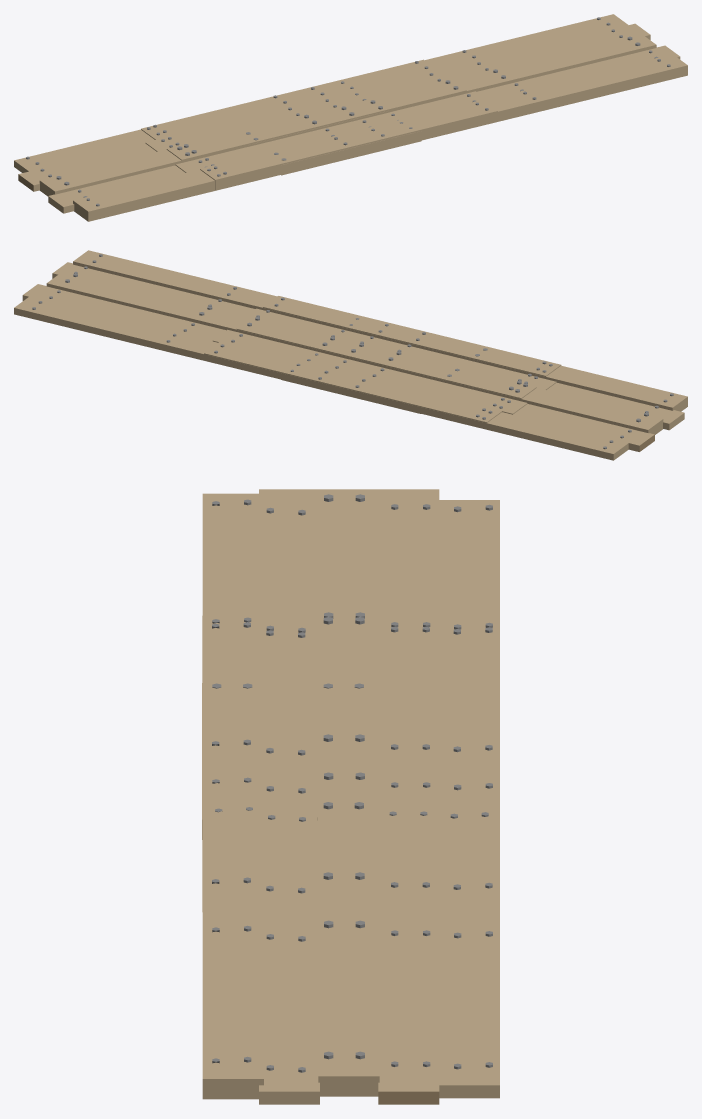
The model's file is roof planks 1.fbx.
3 renders of one model, top to bottom at view 1: azimuth 30°, elevation 25°; view 2: azimuth 150°, elevation 25°; view 3: azimuth 270°, elevation 25°, orthographic. The views are drawn at different scales.
Visible parts, largest first — view 1: Roof_3, roof_2, Roof_1; view 2: Roof_3, roof_2; view 3: Roof_3, roof_2.
Boxes of the visible parts, x1,y1,x2,y2 form: Roof_3: (14,14,687,221); roof_2: (141,59,497,189); Roof_1: (246,81,421,175); Roof_3: (14,250,687,460); roof_2: (204,296,561,422); Roof_3: (202,489,499,1104); roof_2: (202,611,499,911).
Bounding box in the file's own units: 3208 × 74.32 × 671.
Materials: 1 (1 with a texture image).
